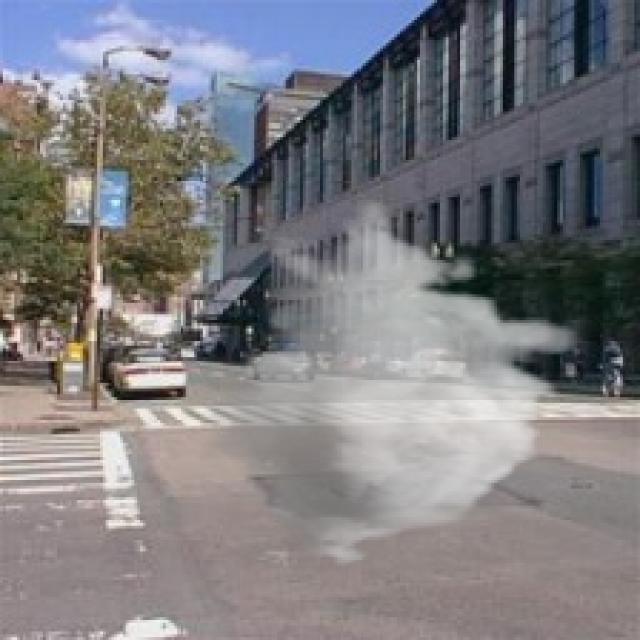smoke: (200, 197, 586, 569)
